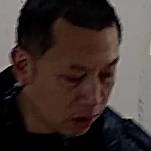qg: (10, 8, 135, 133)
